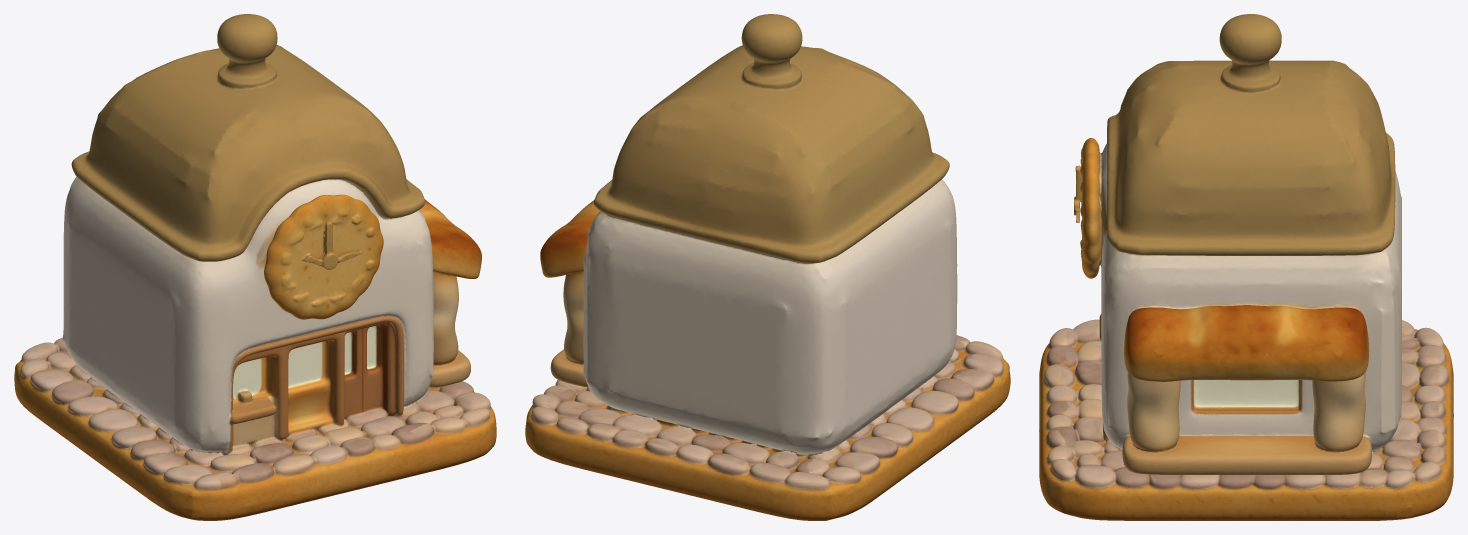
The model's file is patisserie-coin.glb.
3 views of the same model, side by side, from view 1: azimuth 30°, elevation 25°; view 2: azimuth 150°, elevation 25°; view 3: azimuth 270°, elevation 25° (orthographic). The views are drawn at different scales.
Size of the model in its own units: 1.68 by 1.9 by 1.68.
1 material, 1 textured.
